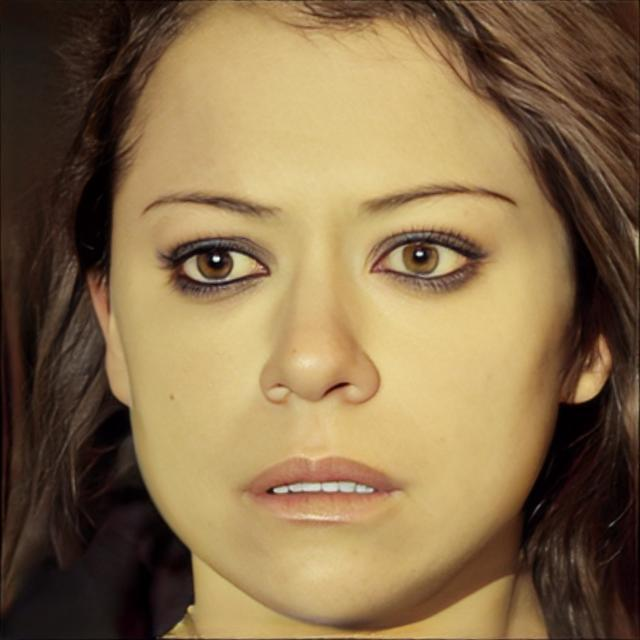neutral: (114, 24, 556, 618)
